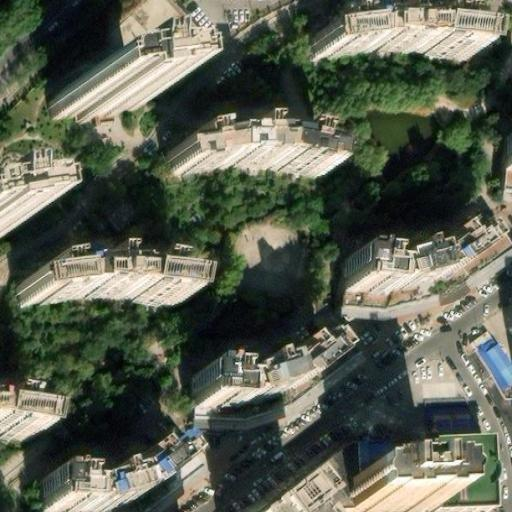building: (343, 202, 512, 305), (280, 436, 501, 512), (43, 426, 211, 512), (346, 231, 479, 293), (42, 449, 175, 511), (194, 344, 326, 405), (165, 133, 326, 181), (16, 269, 178, 310), (308, 22, 473, 62), (349, 470, 438, 510), (48, 82, 126, 122), (474, 331, 512, 385), (0, 405, 28, 444), (497, 132, 512, 197), (121, 462, 138, 478)
